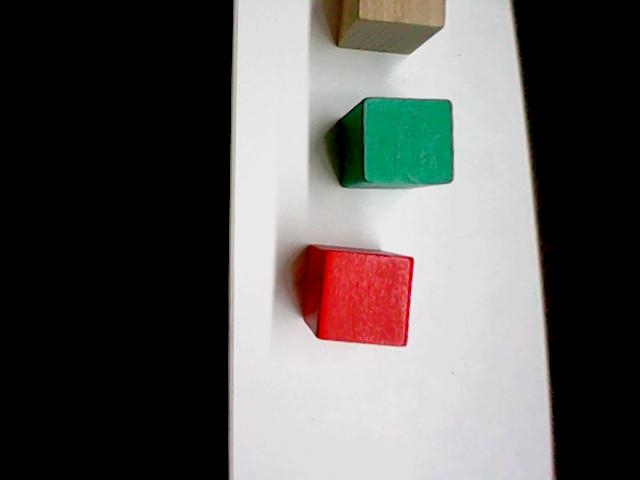green_box: (335, 94, 459, 194)
raw_box: (327, 0, 456, 59)
red_box: (307, 248, 420, 345)
